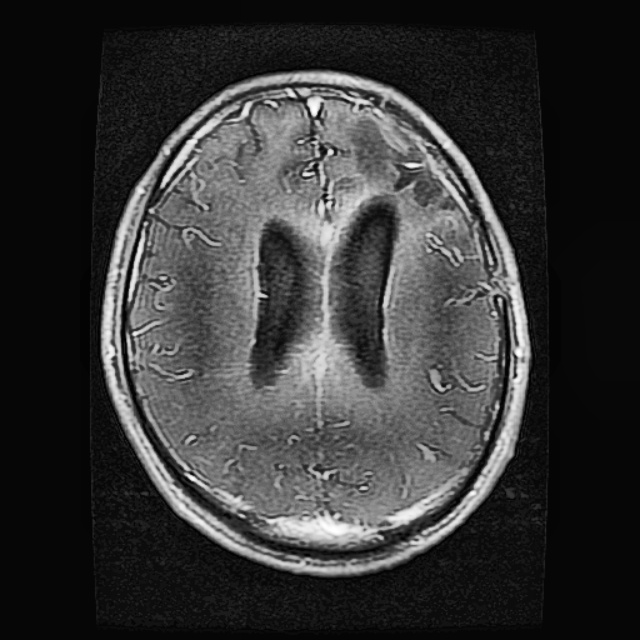Glioma: (352, 118, 460, 212)
